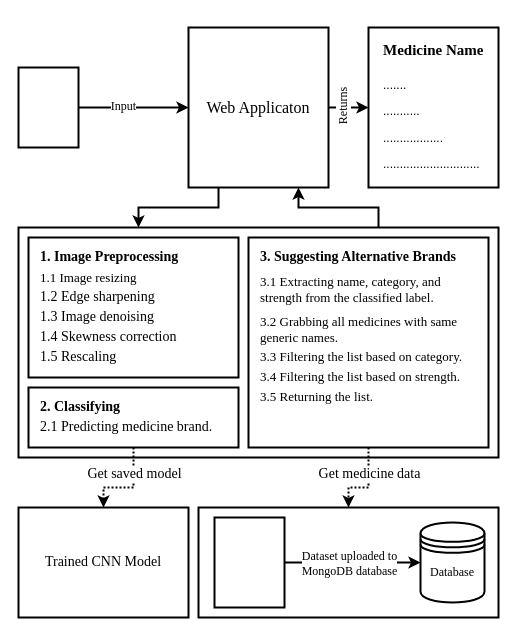
The diagram is 516 pixels wide and 635 high, and some of its shapes have lost their labels. Each missing label, with the centre of its shape:
Image: the point at 48,107
Medicine Dataset: the point at 249,562
